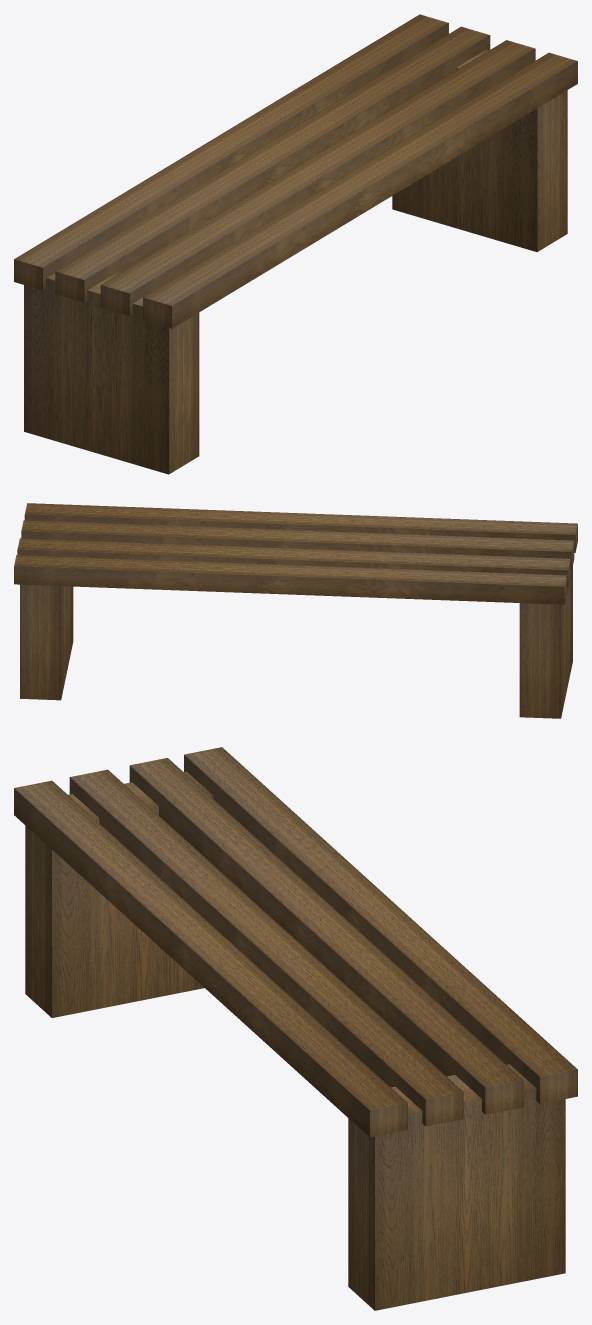
File: Obstacle_072.obj
3 views of the same model, one above another, from view 1: azimuth 30°, elevation 25°; view 2: azimuth 150°, elevation 25°; view 3: azimuth 270°, elevation 25° (orthographic). The views are drawn at different scales.
Visible parts, largest first — view 1: Box180, Box178, Box179; view 2: Box180, Box178, Box179; view 3: Box180, Box179, Box178.
Part boxes in pixels (x1=…): Box180: x1=14, y1=14, x2=577, y2=328; Box178: x1=24, y1=272, x2=199, y2=474; Box179: x1=392, y1=49, x2=567, y2=251; Box180: x1=14, y1=503, x2=577, y2=604; Box178: x1=519, y1=566, x2=572, y2=718; Box179: x1=20, y1=584, x2=73, y2=700; Box180: x1=14, y1=747, x2=577, y2=1137; Box179: x1=348, y1=1064, x2=565, y2=1310; Box178: x1=25, y1=771, x2=213, y2=1017.
Bounding box in the file's own units: 80.44 × 21.16 × 52.74.
